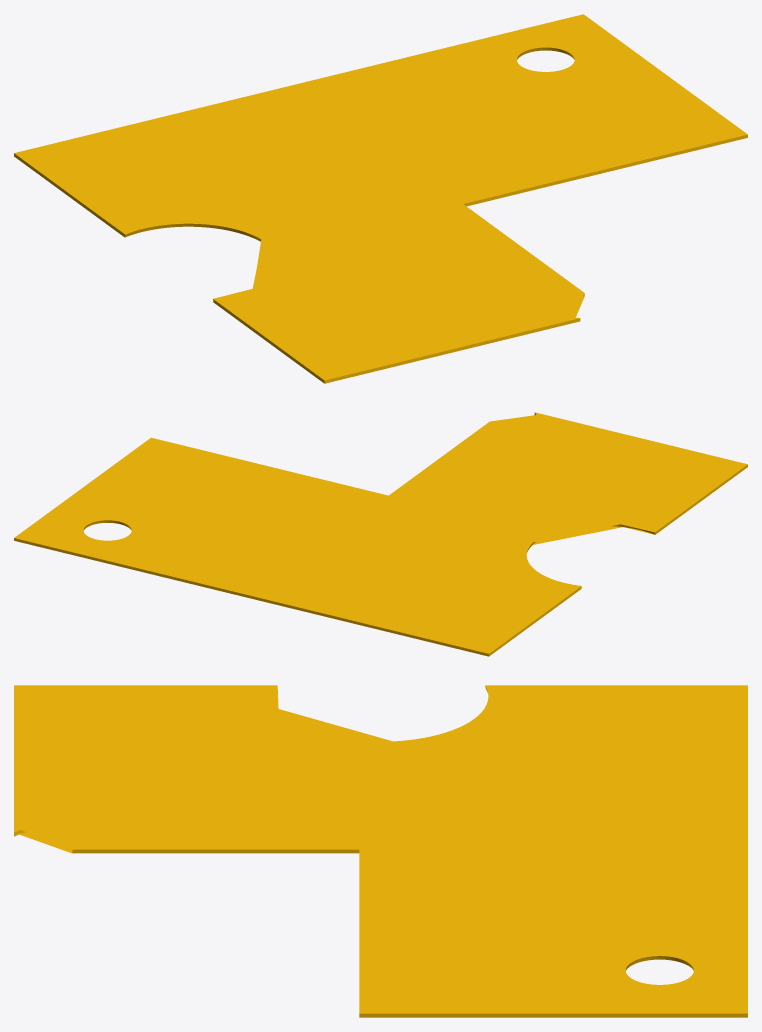
The picture shows the model from 3 angles, top to bottom: view 1: azimuth 30°, elevation 25°; view 2: azimuth 150°, elevation 25°; view 3: azimuth 270°, elevation 25°; orthographic projection. The views are drawn at different scales.
Visible parts, largest first — view 1: LEVEL, LEVEL Level_3; view 2: LEVEL, LEVEL Level_3; view 3: LEVEL, LEVEL Level_3.
Boxes of the visible parts, bbox=[...] form: LEVEL: bbox=[14, 14, 747, 383]; LEVEL Level_3: bbox=[213, 221, 584, 323]; LEVEL: bbox=[14, 414, 747, 656]; LEVEL Level_3: bbox=[465, 412, 670, 544]; LEVEL: bbox=[14, 685, 747, 1017]; LEVEL Level_3: bbox=[14, 685, 392, 853].
Size of the model in its own units: 90 by 0.5 by 85.
